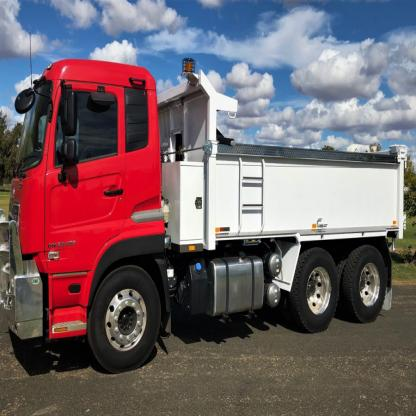dump_truck: (9, 47, 406, 378)
